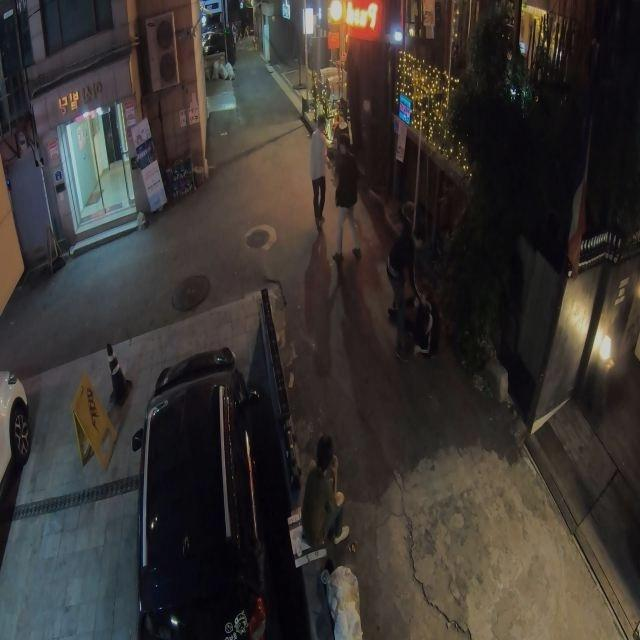non-fight: (325, 120, 362, 260), (302, 439, 346, 551), (307, 117, 332, 232)
